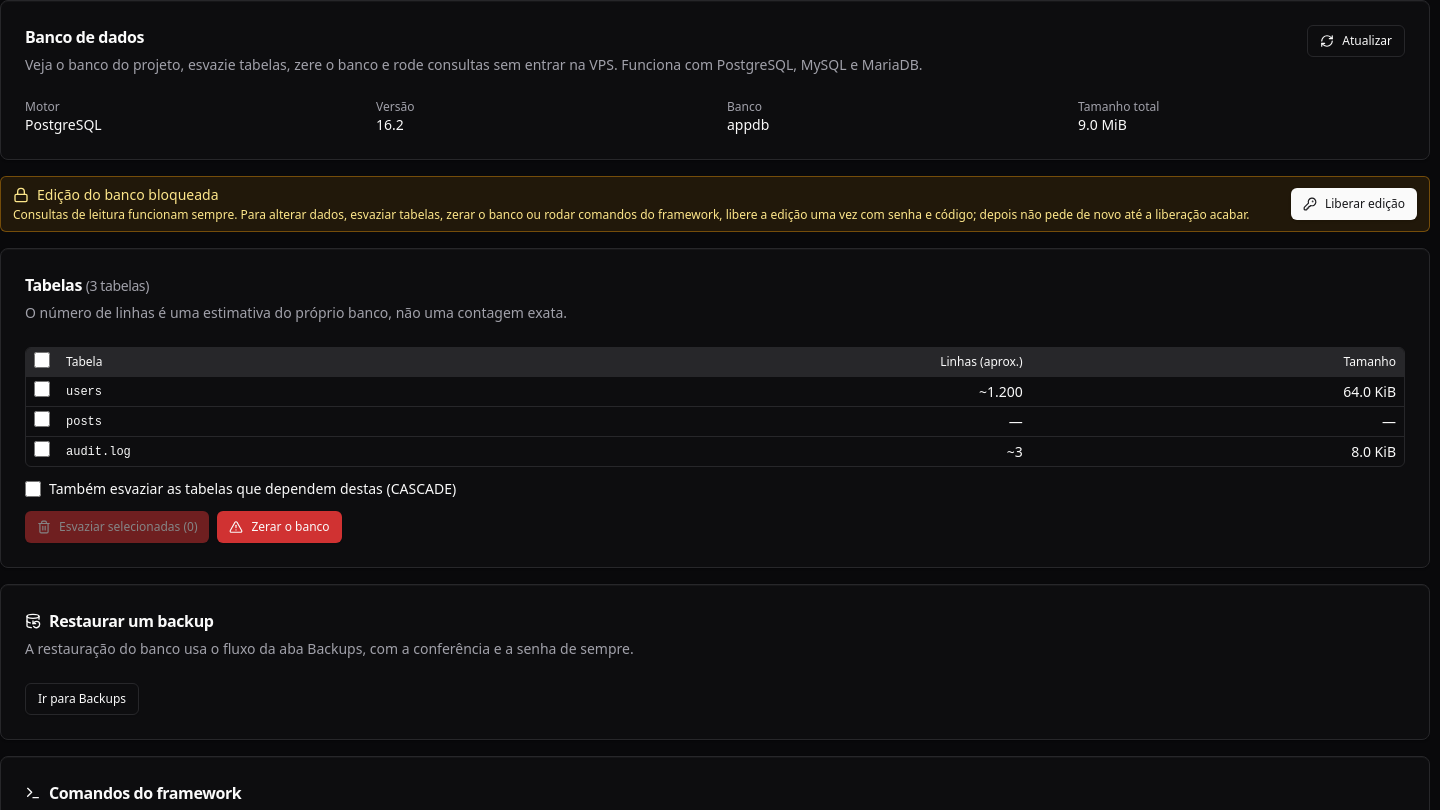
Scenario: liberar a edição › senha errada: mostra o erro; backup que falha avisa que a edição não foi liberada
Expected: the element with test id "database-overview" is shown, [25, 98, 1159, 134]
Expected: the element with test id "database-locked" is shown, [0, 176, 1430, 232]
Click the button "Liberar edição" at (1354,204), box [1291, 188, 1417, 220]
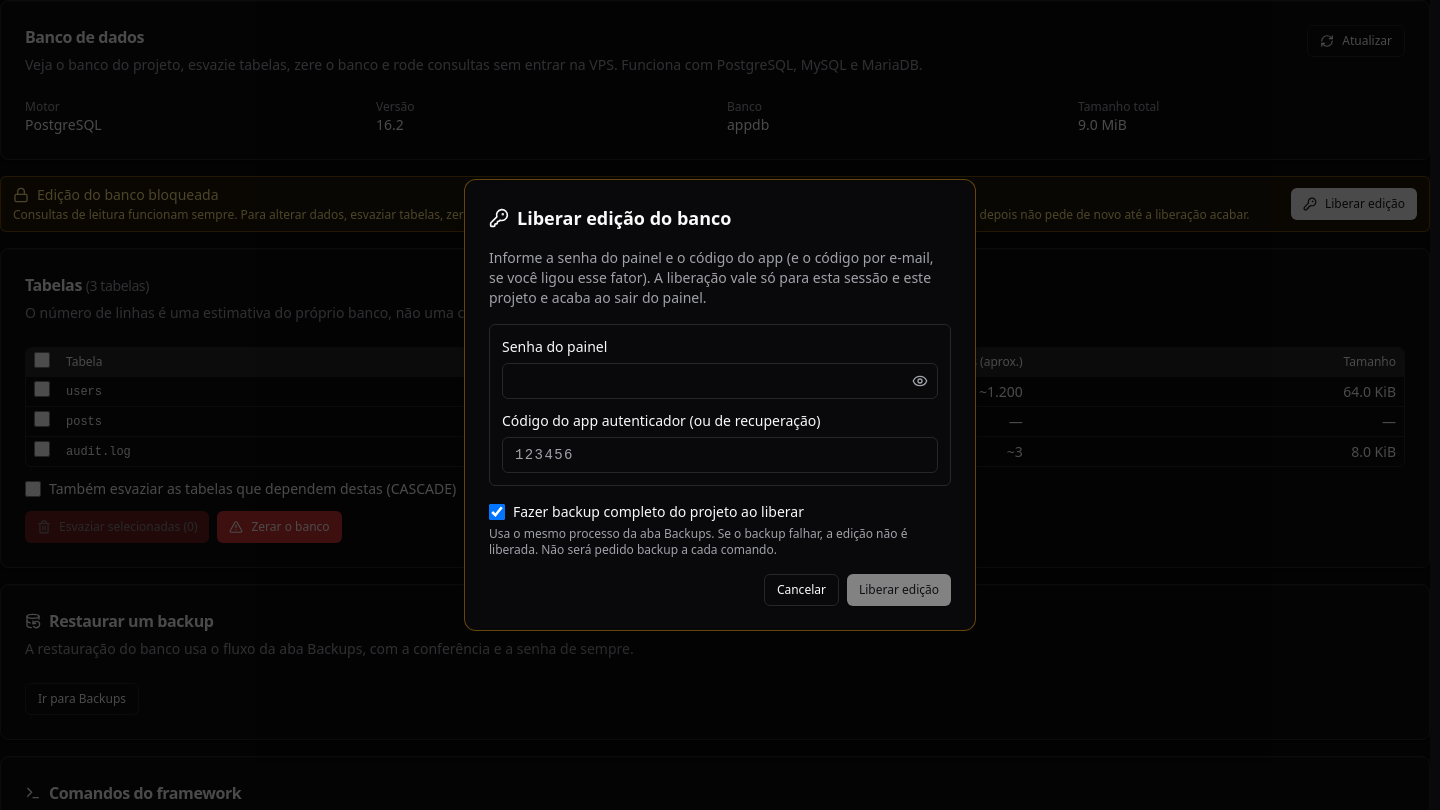
Type "x" into the password field labelled "Senha do painel" at (720,381), box [502, 363, 938, 399]
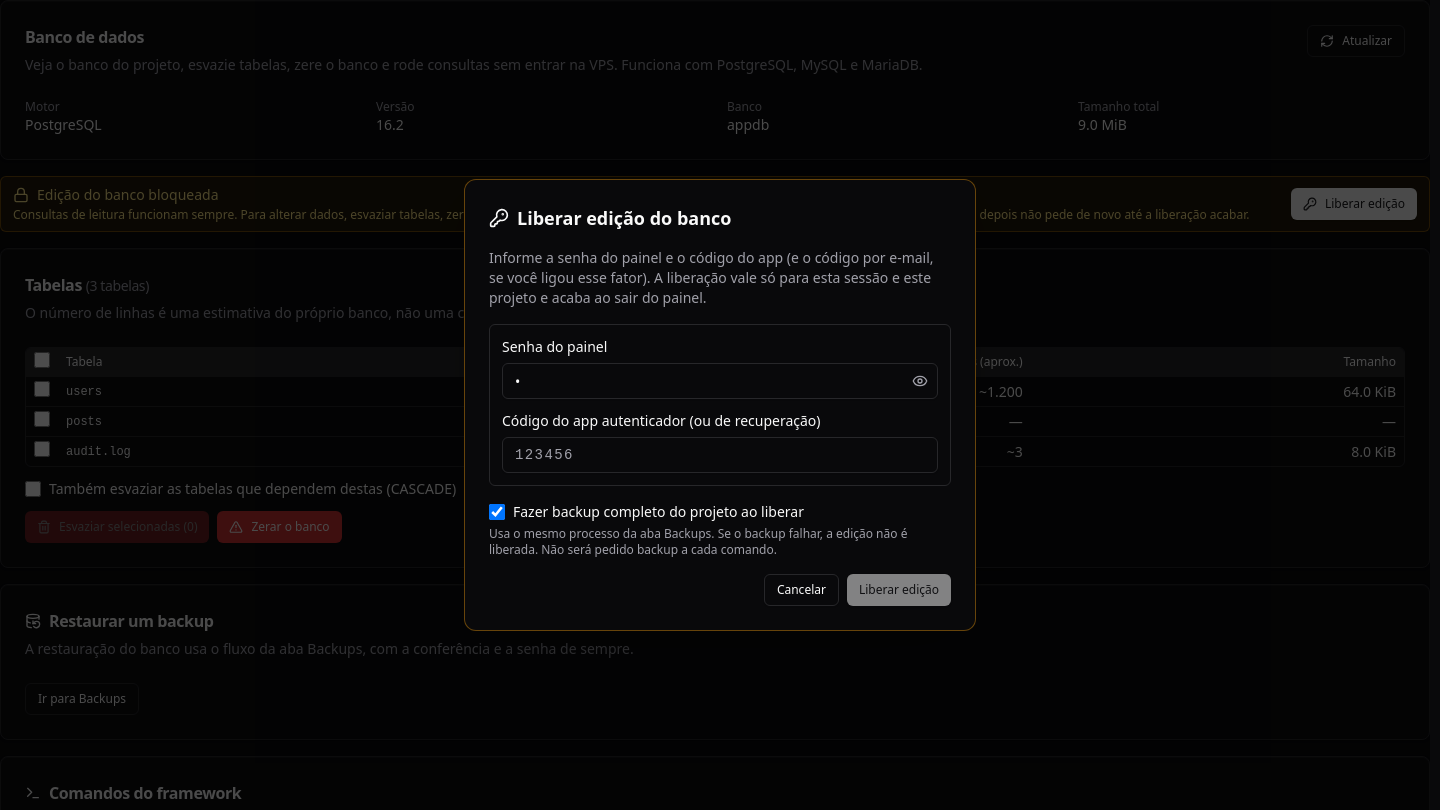
Type "1" into the field labelled "Código do app autenticador (ou de recuperação)" at (720,455), box [502, 437, 938, 473]
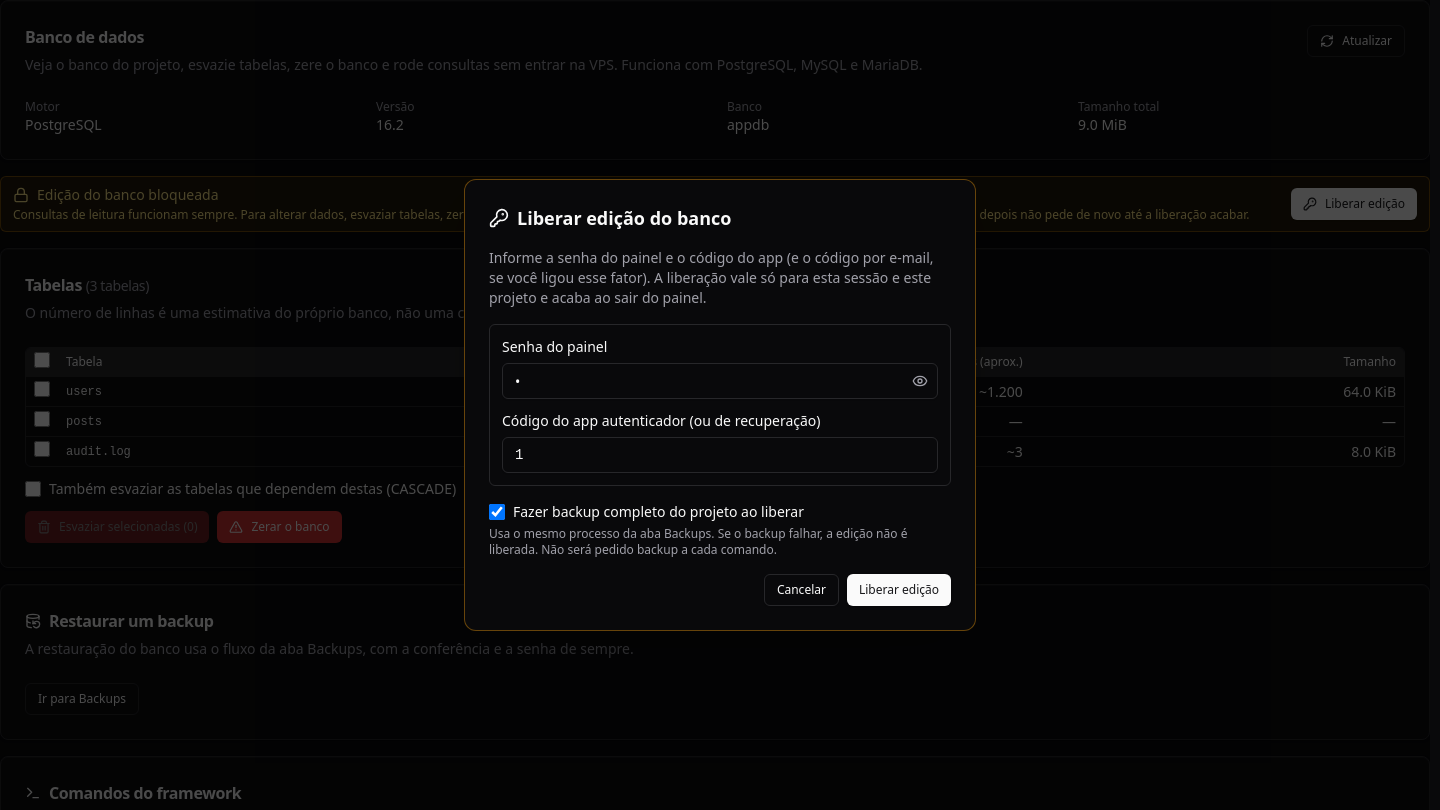
Click the button "Liberar edição" at (899,590), box [847, 574, 951, 606]
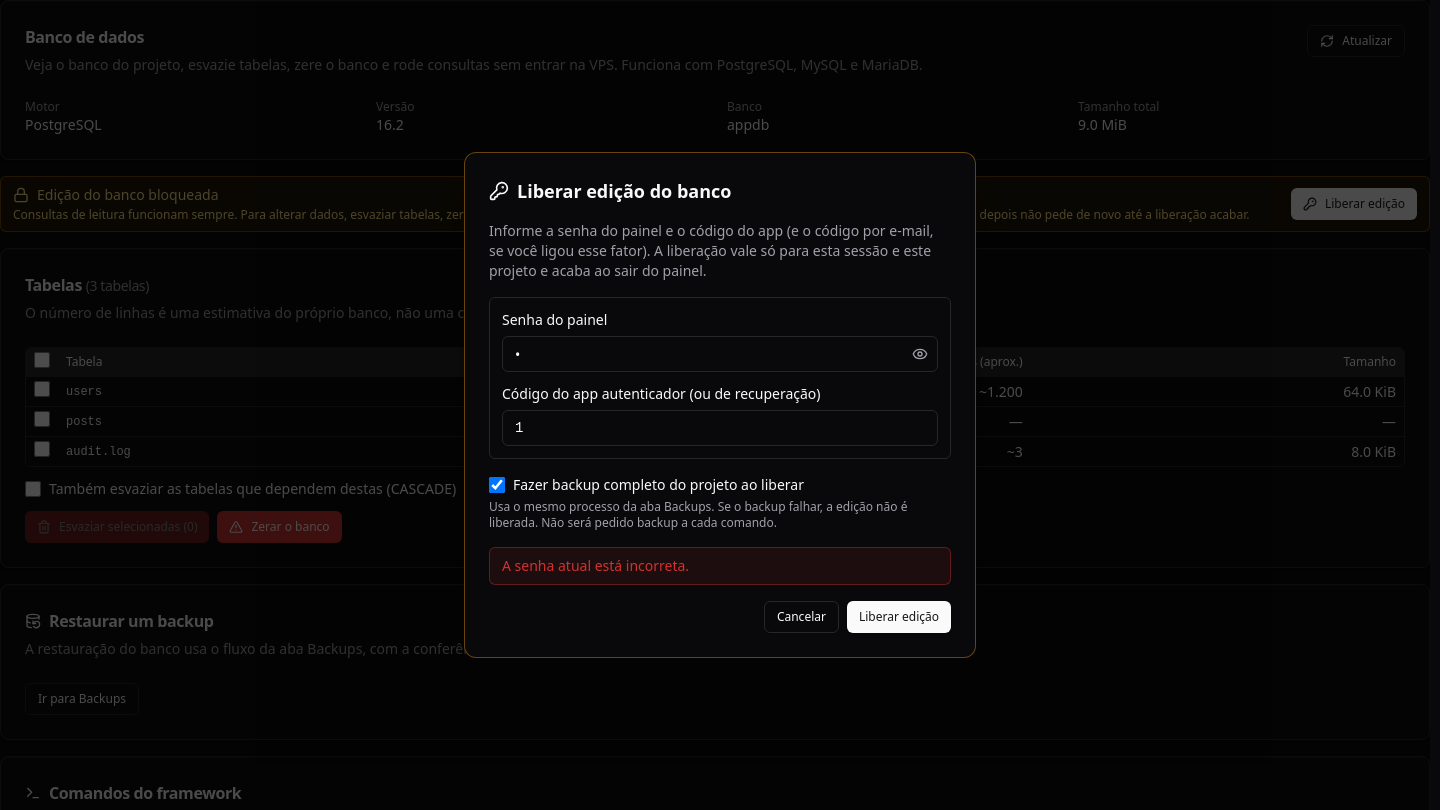
Result: the message shows "senha atual está incorreta" at [502, 556, 689, 575]
Click the button "Liberar edição" at (899,617), box [847, 601, 951, 633]
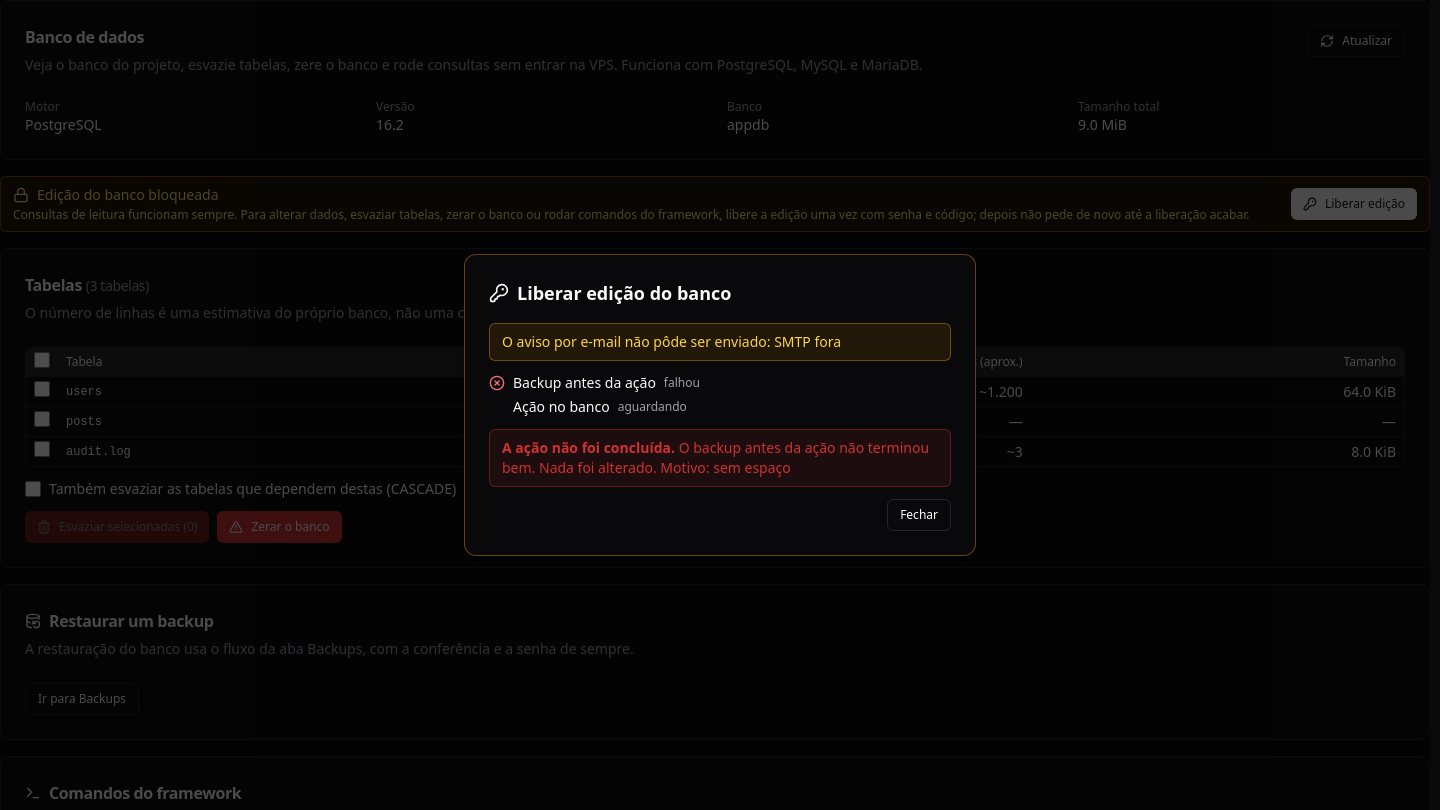
Expected: the element with test id "database-locked" is shown, [0, 176, 1430, 232]
Result: the text "A ação não foi concluída." is shown at [502, 438, 675, 457]
Result: the text "O aviso por e-mail não pôde ser enviado: SMTP fora" is shown at [489, 323, 951, 361]
